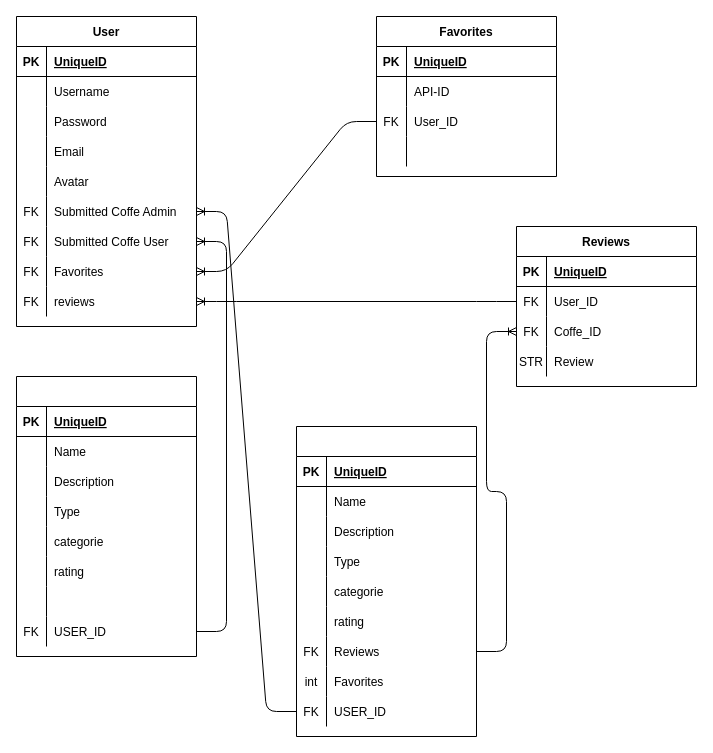
This 713x753 diagram has some shape labels left out. Here are the shapes that lost their labels. From the top down, the box of each, then its label:
(16, 376, 196, 656): Coffe user
(296, 426, 476, 736): Coffe Admin
